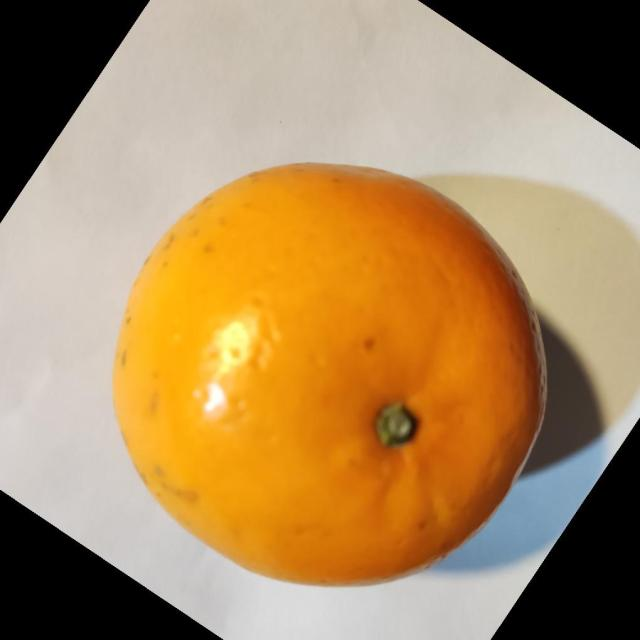fresh orange: (111, 160, 548, 587)
